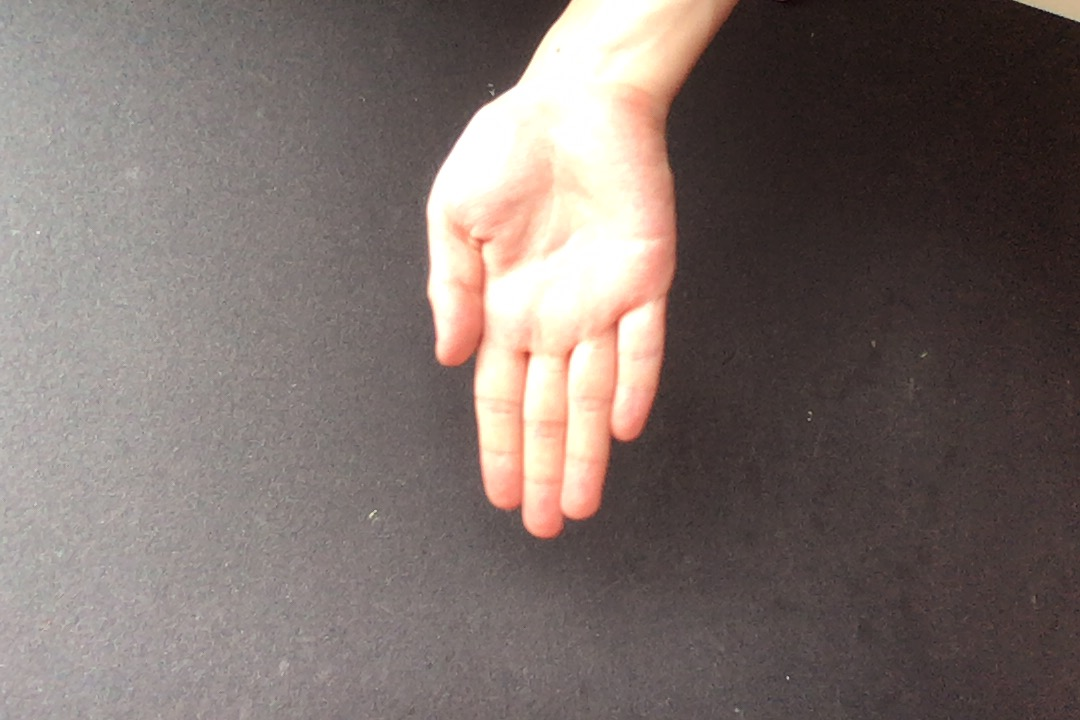palmhand: (413, 87, 686, 543)
